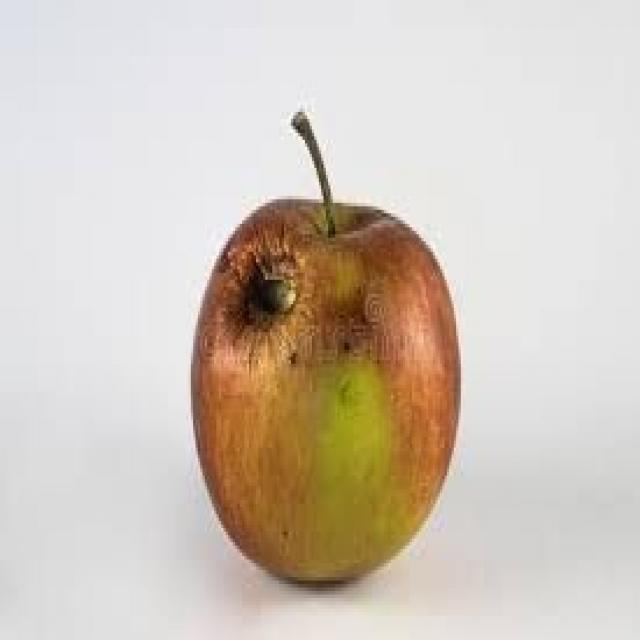Rotten: (188, 205, 450, 582)
